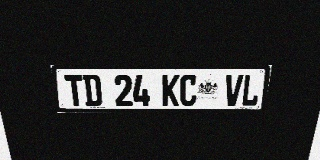2: (114, 74, 133, 106)
4: (132, 74, 150, 106)
C: (179, 74, 198, 106)
D: (82, 74, 102, 106)
K: (162, 74, 180, 106)
L: (240, 74, 261, 106)
T: (64, 74, 85, 106)
V: (223, 74, 244, 106)
